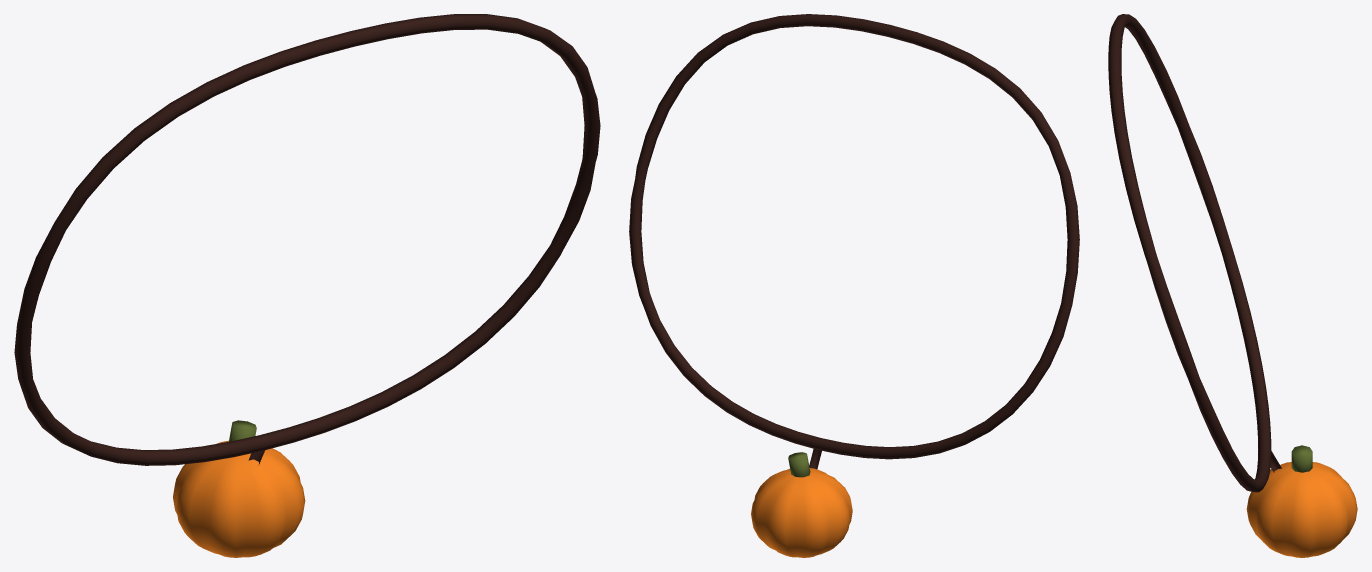
File: charm.glb
3 renders of one model, left to right at view 1: azimuth 30°, elevation 25°; view 2: azimuth 150°, elevation 25°; view 3: azimuth 270°, elevation 25°, orthographic. The views are drawn at different scales.
Parts seen in each view (by area): view 1: Charm; view 2: Charm; view 3: Charm.
Part boxes in pixels (left/top/right/bottom): Charm: left=14, top=14, right=600, bottom=557; Charm: left=629, top=14, right=1079, bottom=557; Charm: left=1108, top=14, right=1357, bottom=557.
Size of the model in its own units: 0.4126 by 0.4141 by 0.1887.
